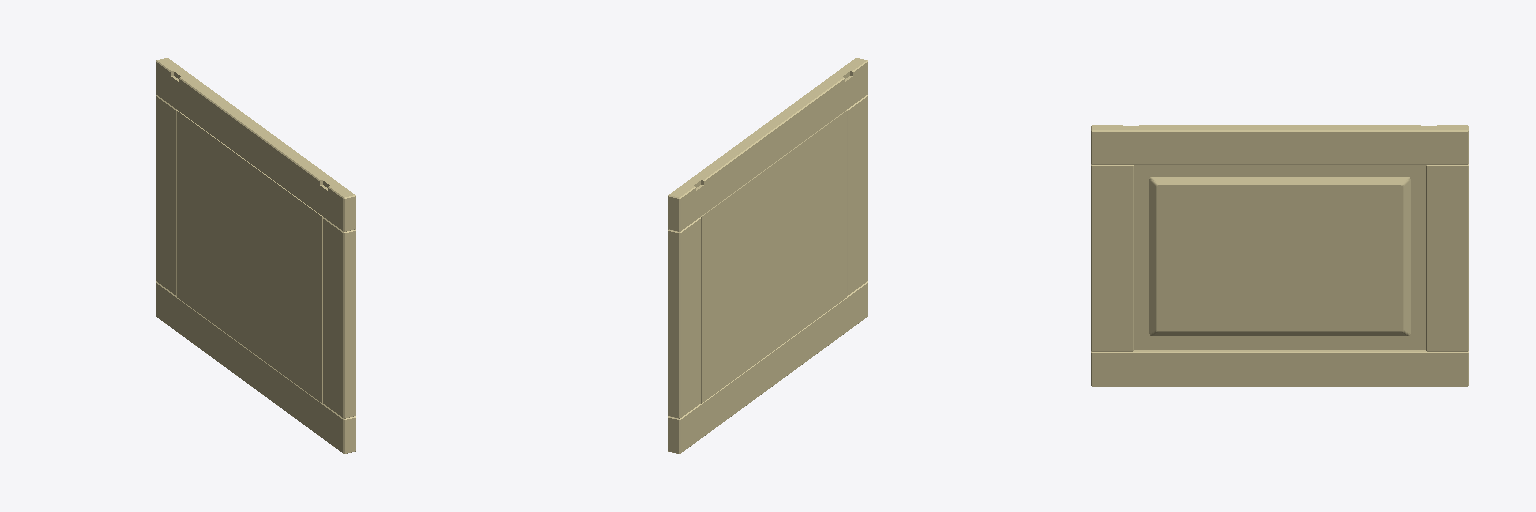
File: door_right.obj
3 renders of one model, left to right at view 1: azimuth 30°, elevation 25°; view 2: azimuth 150°, elevation 25°; view 3: azimuth 270°, elevation 25°, orthographic.
Visible parts, largest first — view 1: door_right; view 2: door_right; view 3: door_right.
Boxes of the visible parts, <box> form: door_right: <box>156,58,355,453</box>; door_right: <box>668,58,867,453</box>; door_right: <box>1091,125,1468,386</box>.
Size of the model in its own units: 0.02 by 0.381 by 0.5079.